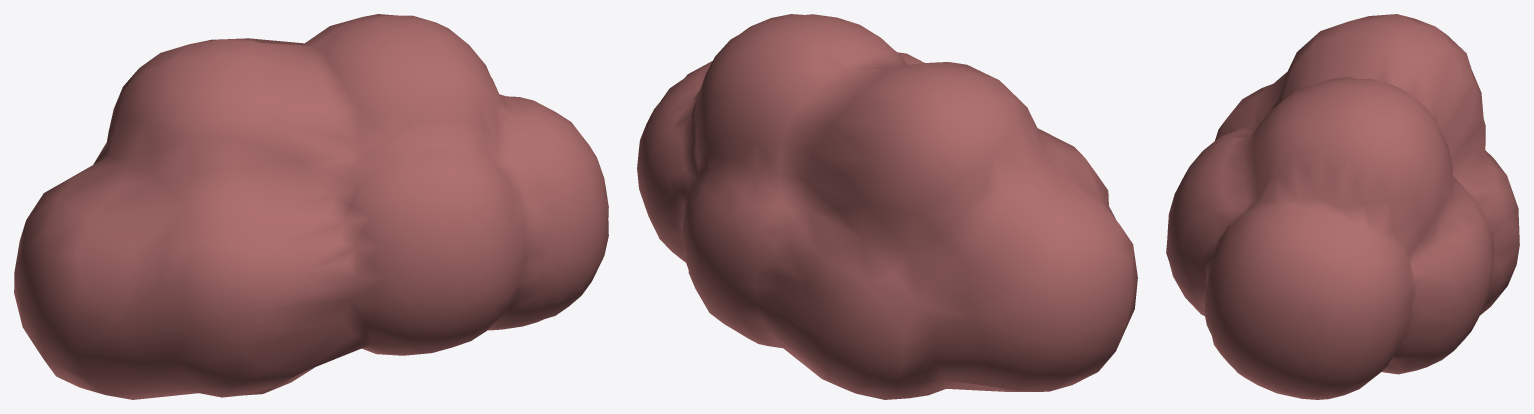
The model's file is nuagerose.fbx.
3 renders of one model, left to right at view 1: azimuth 30°, elevation 25°; view 2: azimuth 150°, elevation 25°; view 3: azimuth 270°, elevation 25°, orthographic. The views are drawn at different scales.
Parts seen in each view (by area): view 1: pPlatonic14; view 2: pPlatonic14; view 3: pPlatonic14.
Part boxes in pixels (left/top/right/bottom): pPlatonic14: left=14, top=14, right=608, bottom=399; pPlatonic14: left=637, top=14, right=1137, bottom=399; pPlatonic14: left=1166, top=14, right=1519, bottom=399.
Bounding box in the file's own units: 8.79 × 5.2 × 5.77.
